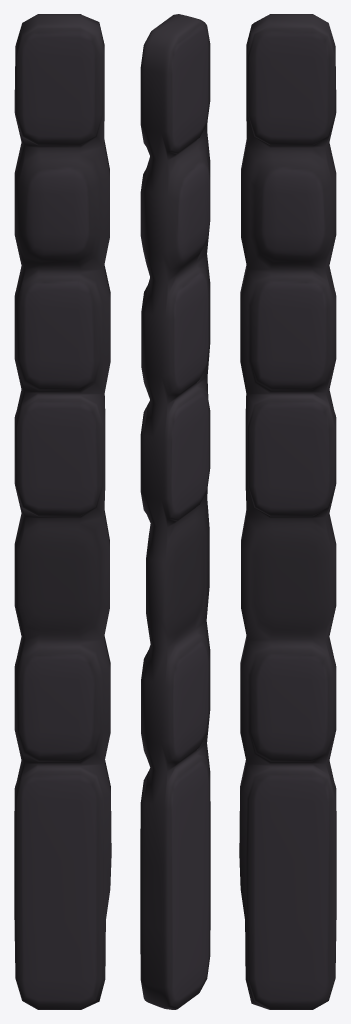
Rendered from Pumpkin_wall_piece_2.fbx.
3 renders of one model, left to right at view 1: azimuth 90°, elevation 25°; view 2: azimuth 150°, elevation 25°; view 3: azimuth 270°, elevation 25°, orthographic.
Parts seen in each view (by area): view 1: Plane.001; view 2: Plane.001; view 3: Plane.001.
Boxes of the visible parts, x1=… form: Plane.001: x1=14, y1=14, x2=111, y2=1009; Plane.001: x1=140, y1=14, x2=210, y2=1009; Plane.001: x1=239, y1=14, x2=336, y2=1009.
Bounding box in the file's own units: 62.6 × 119 × 1341.
